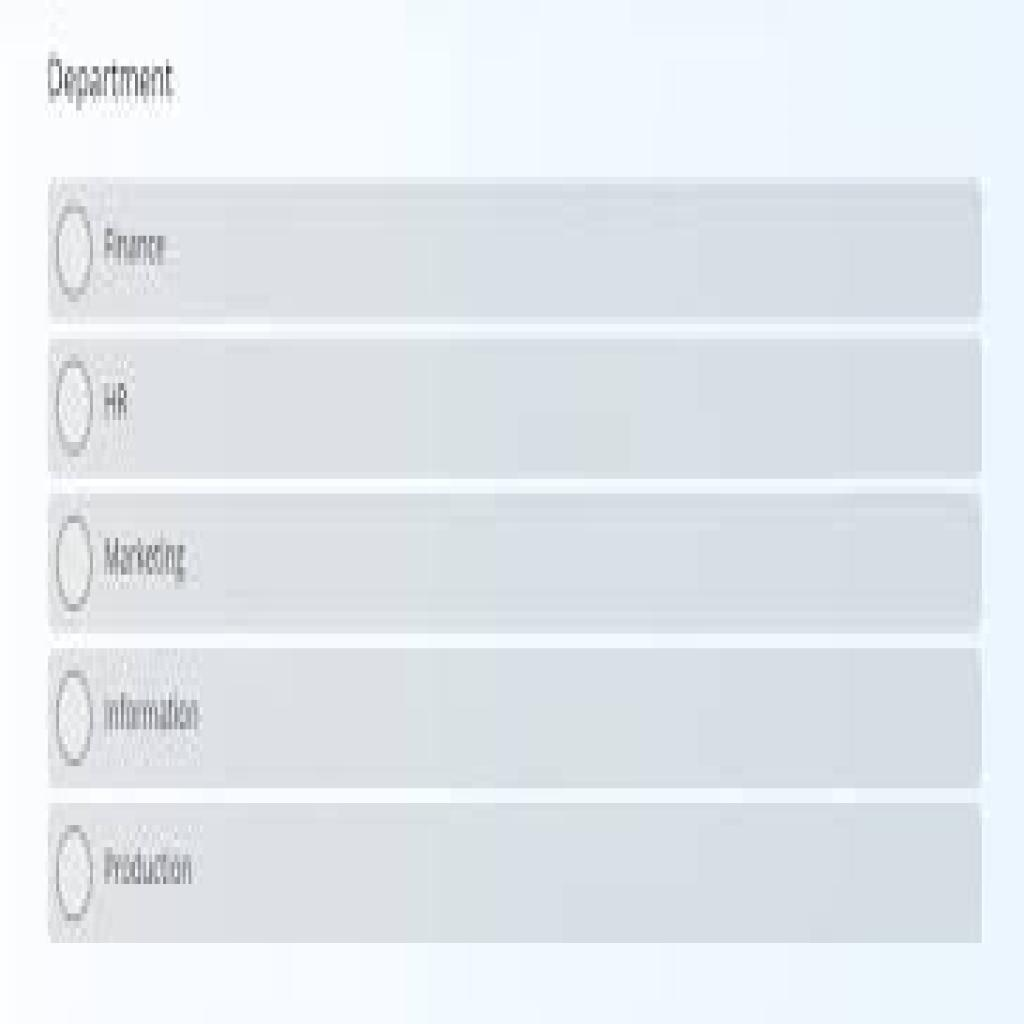radio: (57, 493, 99, 623), (54, 192, 97, 314), (53, 350, 99, 461), (54, 816, 96, 934), (58, 658, 95, 770)
